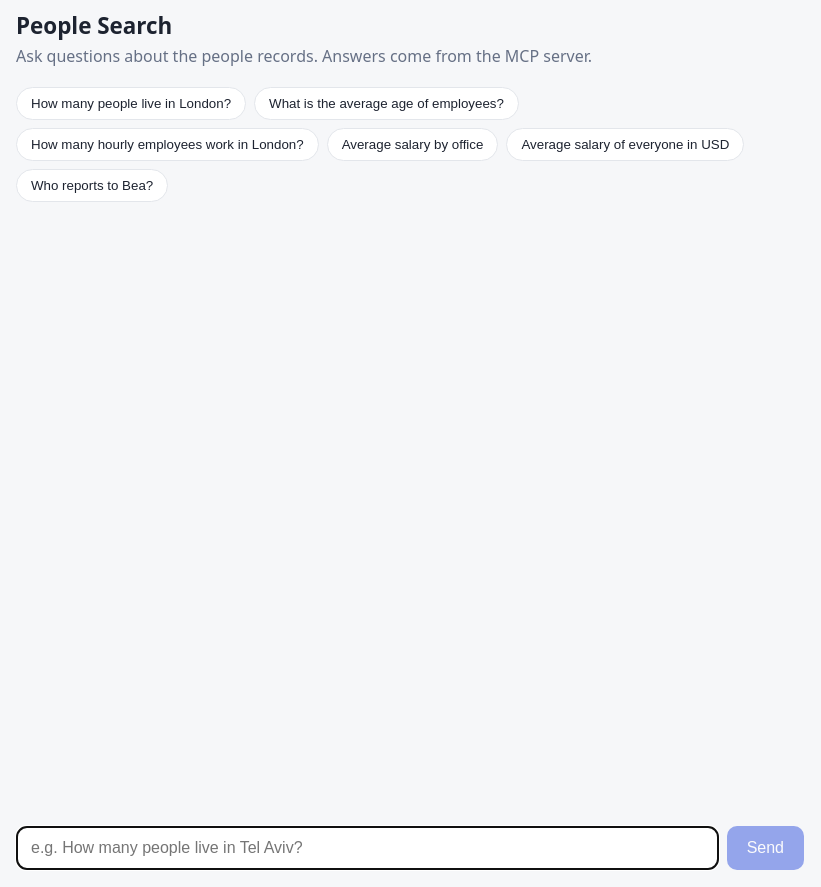
People Search chat › streams the answer and shows the tools used
This screenshot has width=821, height=887.
Type "How many in London?" into the field at (367, 848), box [16,826,719,870]
Then press Enter
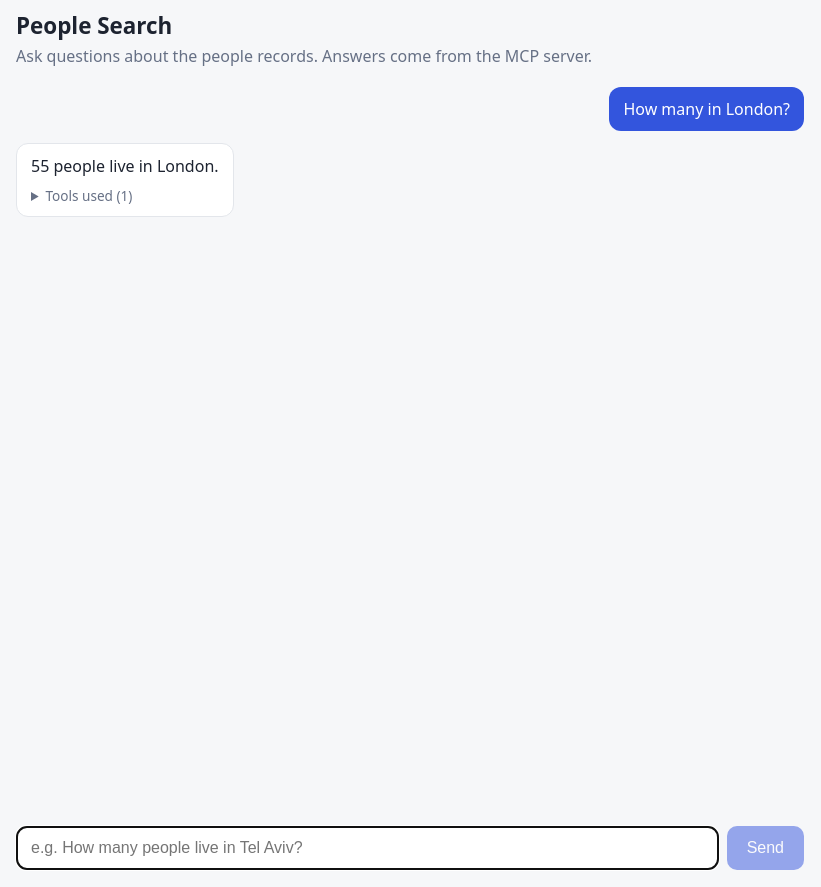
Now the text "55 people live in London." is shown, box [31,154,219,178]
Now the heading "Tools used (1)" is shown, box [45,186,132,205]
